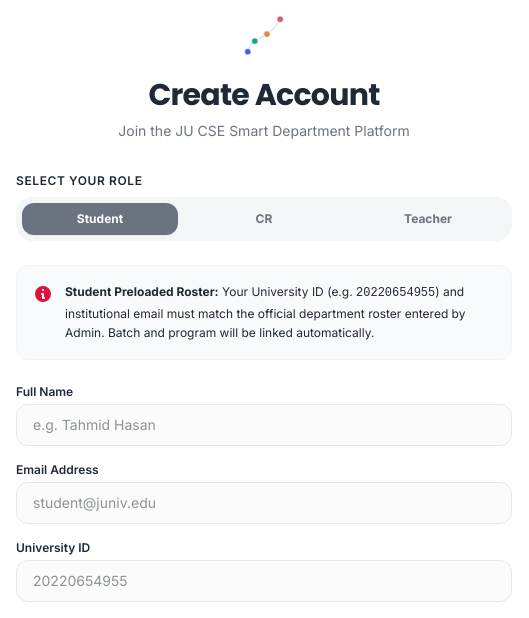
RegisterForm (React Testing Library Component Seam) › switches to Teacher role and hides University ID without Teacher Unique ID
The width and height of the screenshot is (529, 618).
What coordinates should you click on to do the following:
click the button "Teacher"
I would click on:
 (428, 219)
Its box is [350,203,506,235].
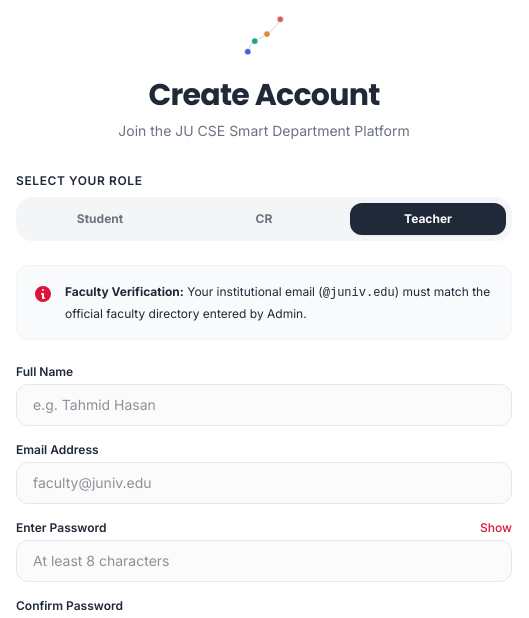
Expected: the text with placeholder "20220654955" is gone
